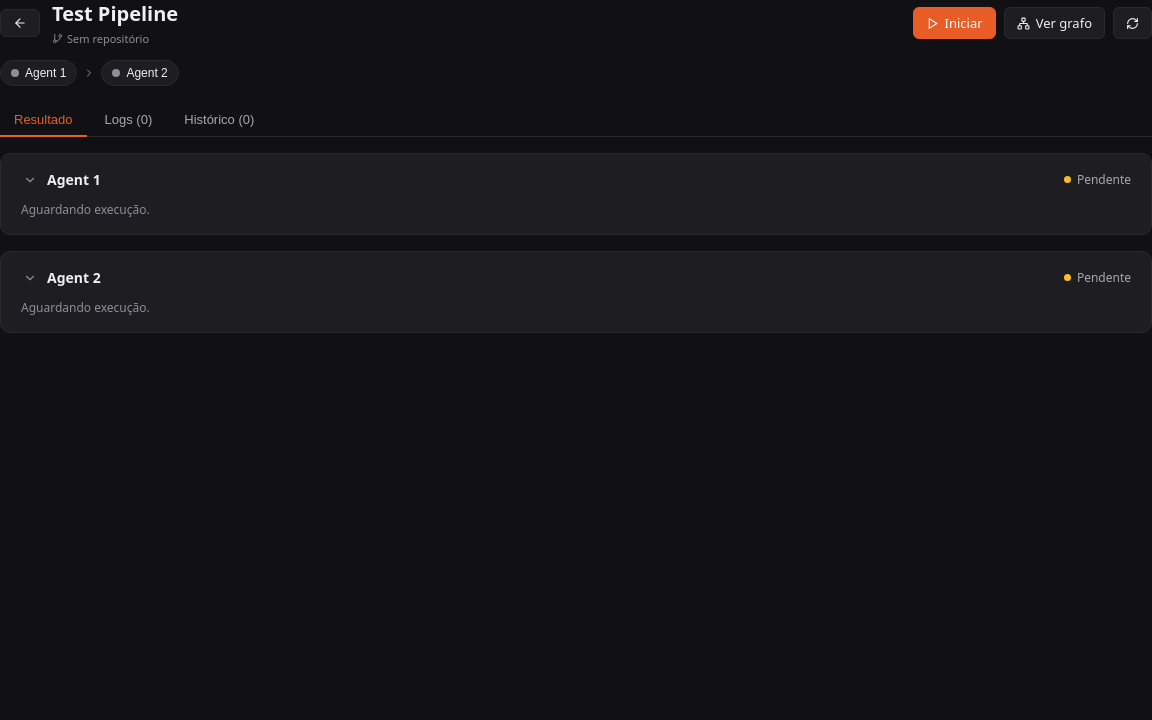
it: PipelineMonitor › shows 409 toast when execute fails with pipeline_already_running
Click the button "Iniciar" at {"x": 954, "y": 23}, box [913, 7, 996, 39]
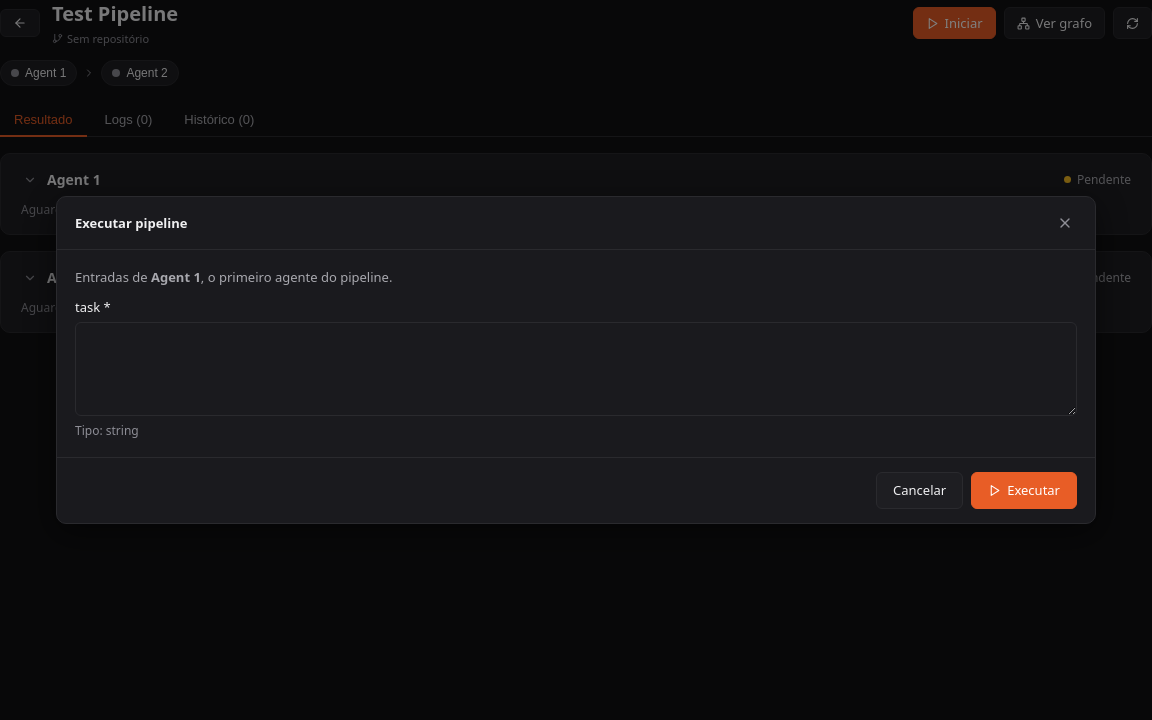
# Agente de entrada tem input obrigatório: o modal pede o valor antes.
Type "gerar plano" into the text box labelled "task *" at {"x": 576, "y": 369}, box [75, 322, 1077, 416]
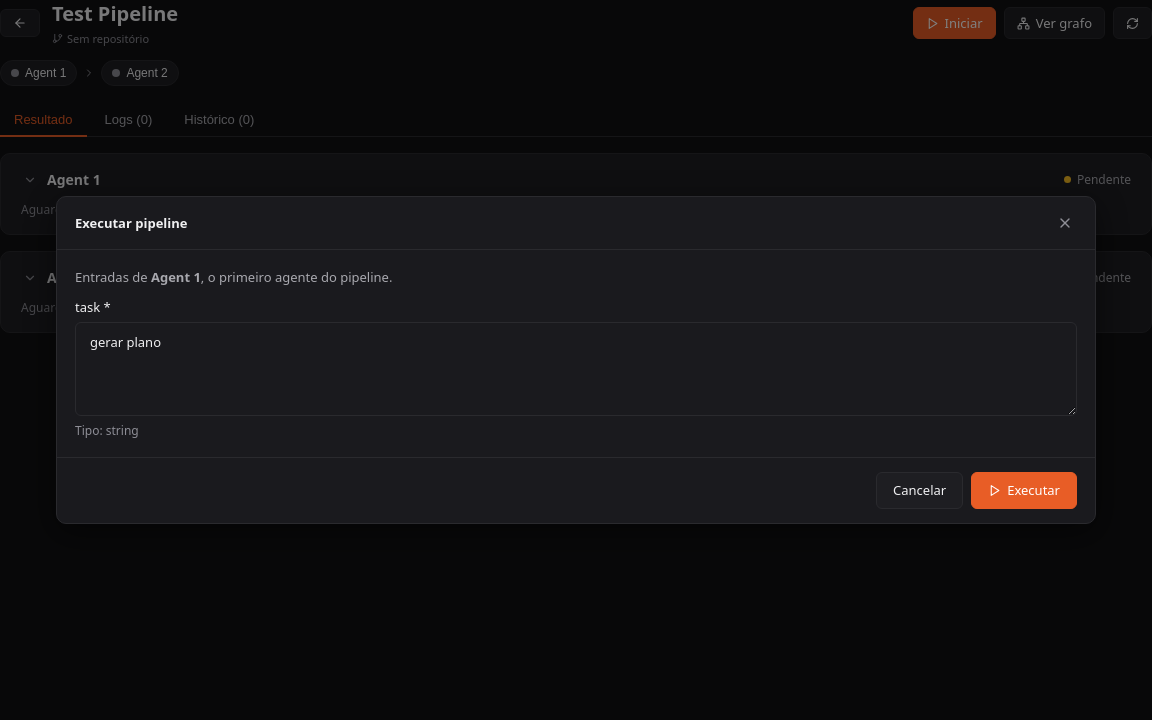
Click the button "Executar" at {"x": 1024, "y": 490}, box [971, 472, 1077, 509]
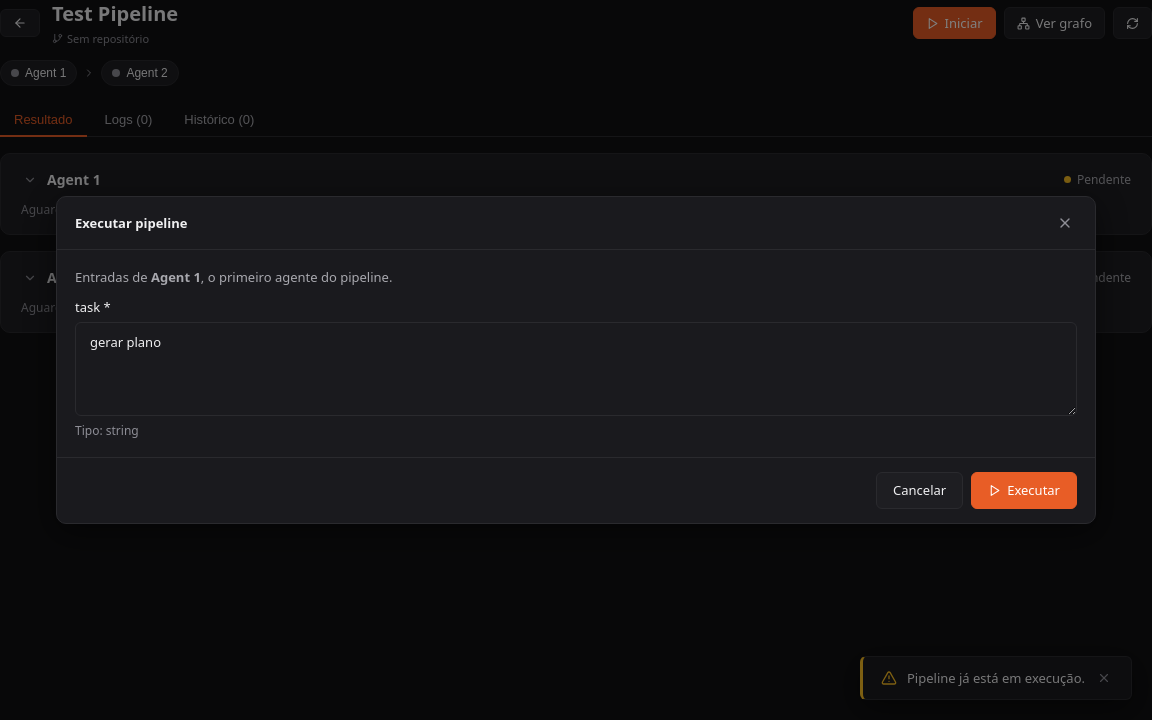
Result: the text "Pipeline já está em execução." is shown at [907, 669, 1085, 687]
